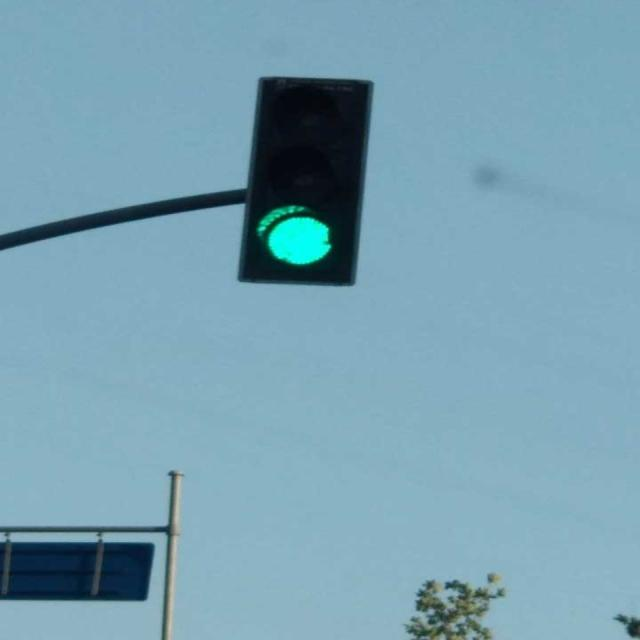yesil: (239, 76, 372, 286)
